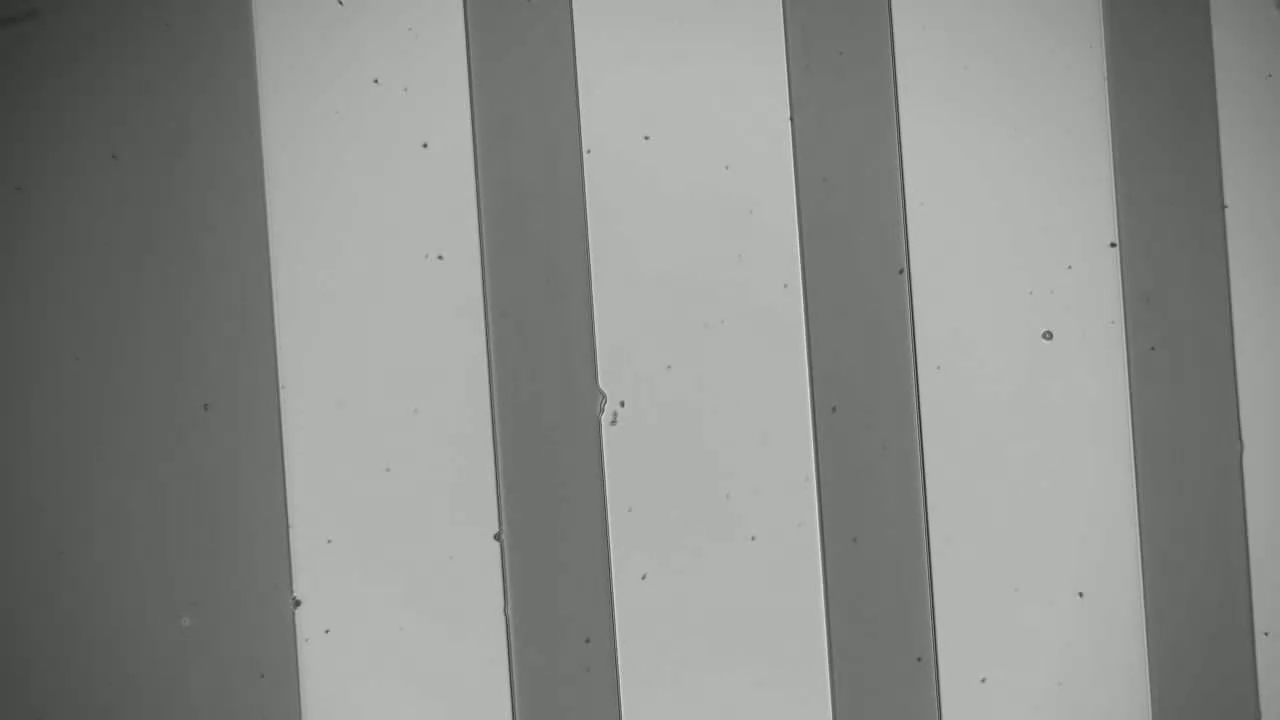edge_bite: (582, 377, 624, 419)
